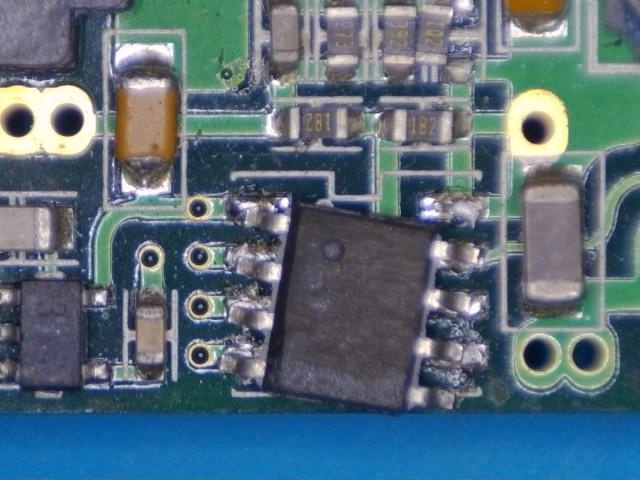pcb_defect: (220, 198, 489, 412), (416, 0, 481, 83)
